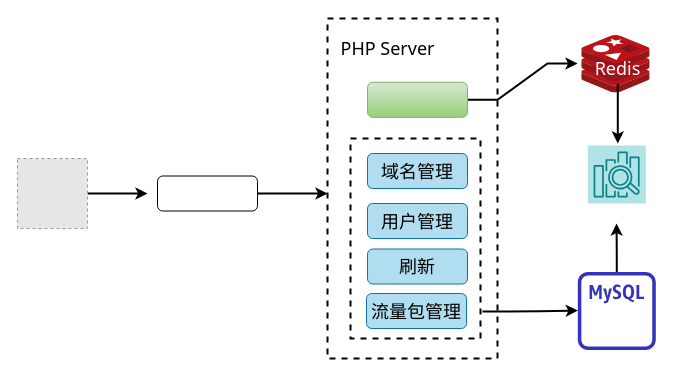
Image size: 673x376. Some labels were removed from this diagram. Grey dashed boxes stand in for pictures. Here are the shapes that lost their labels. From the top down, the box of each, then its label:
(366, 81, 468, 117): 数据查询
(156, 175, 258, 211): 云API
(587, 144, 646, 204): ElasticSearch
